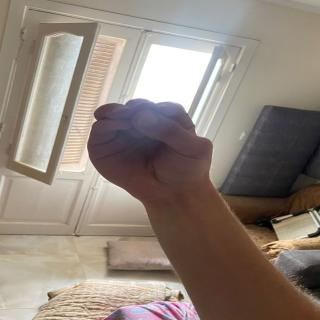HA: (78, 92, 220, 197)
